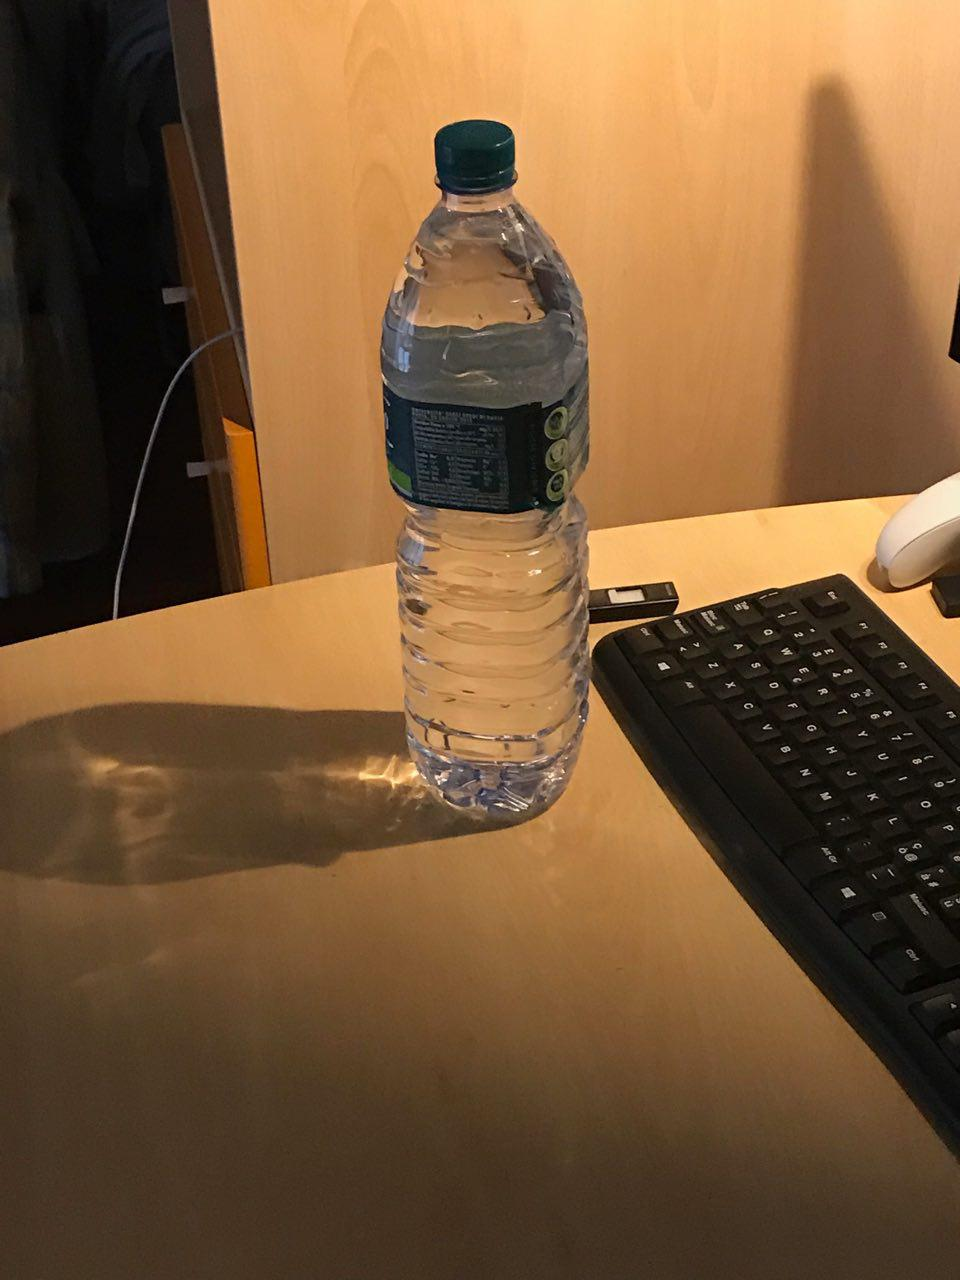san_bernardo: (379, 119, 589, 820)
